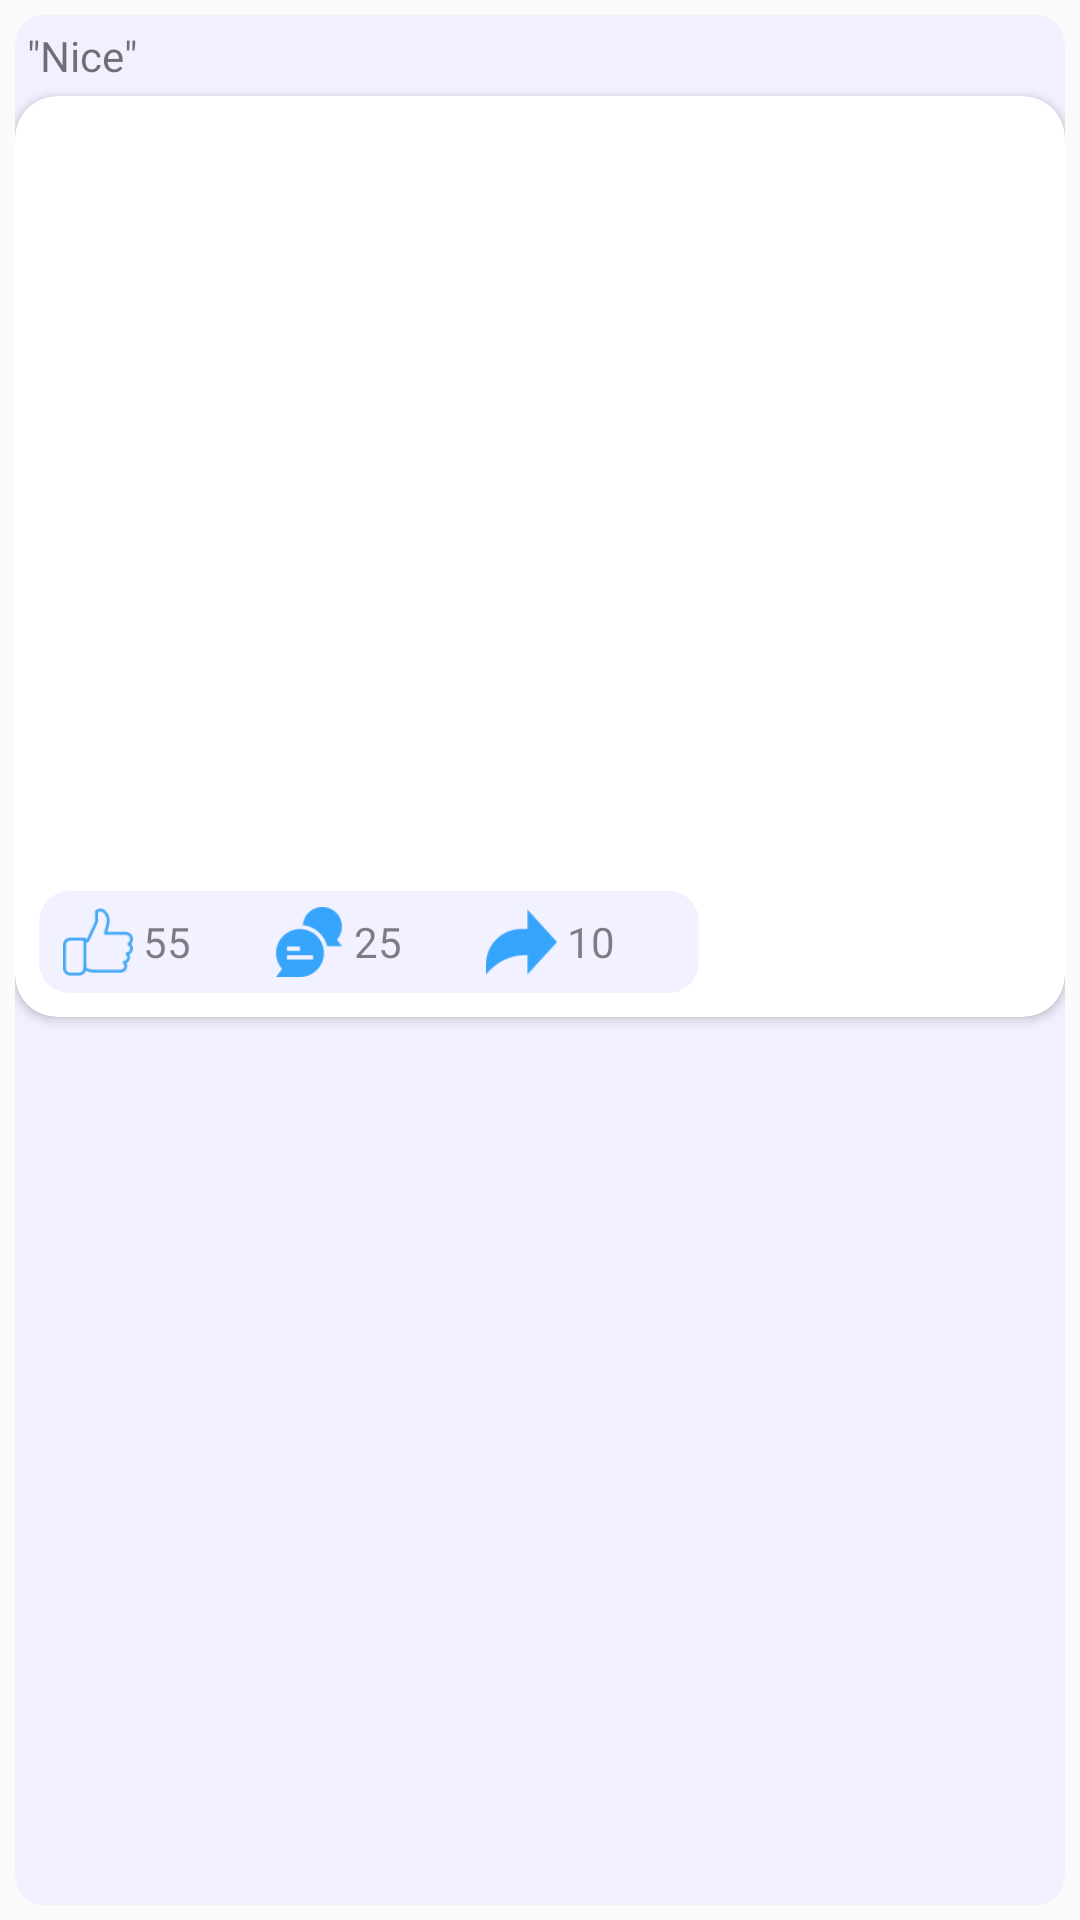

Locate icon controls on the screen. Image size 1080w x 1920h, boxes as [x1=x1, y1=y1, x2=x2, y2=y2].
comments: [x1=276, y1=907, x2=342, y2=977]
likable: [x1=63, y1=908, x2=133, y2=976]
share: [x1=486, y1=910, x2=557, y2=975]
